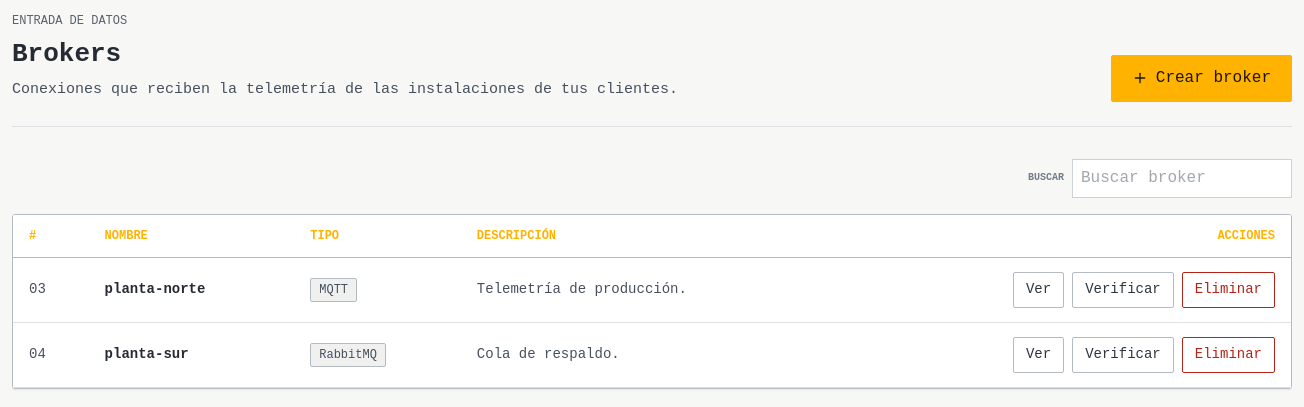
SourcesClient › aclara una búsqueda sin resultados y permite limpiarla
In the search field labelled "Buscar": (1182, 178) [1072,159,1292,198], type "no-existe"
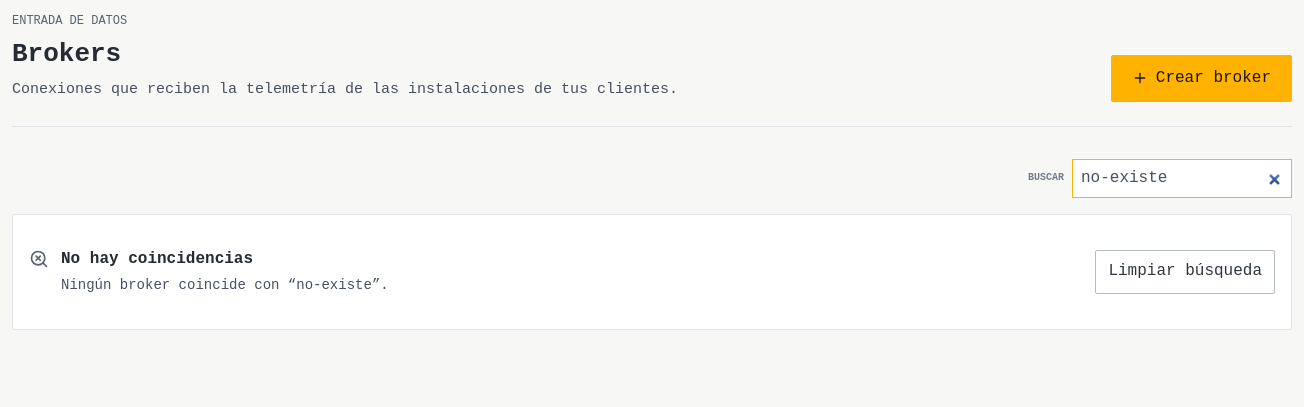
Expected: the heading "No hay coincidencias" is shown, [61,250,253,268]
Click the button "Limpiar búsqueda": (1185, 272) [1095,250,1275,294]
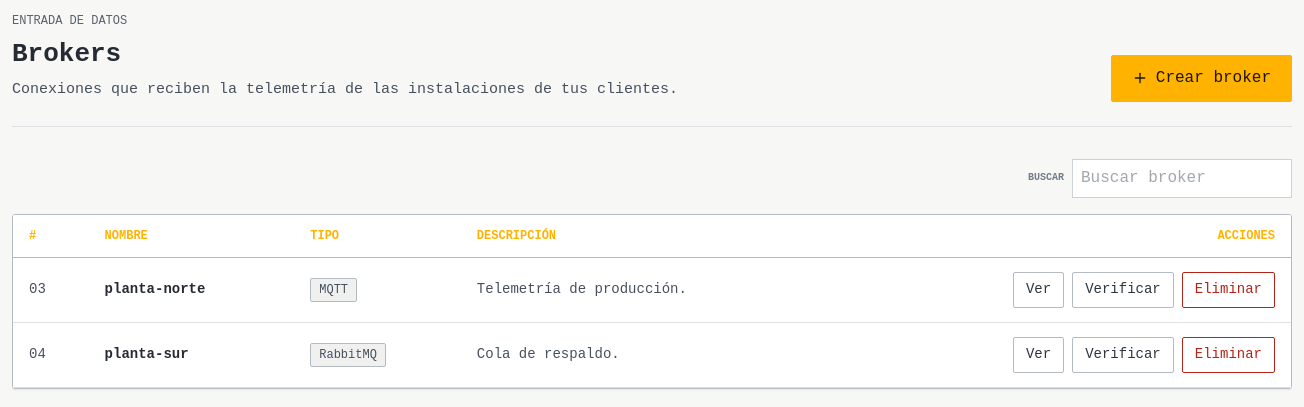
Expected: the link "planta-norte" is shown, [105,281,205,297]
